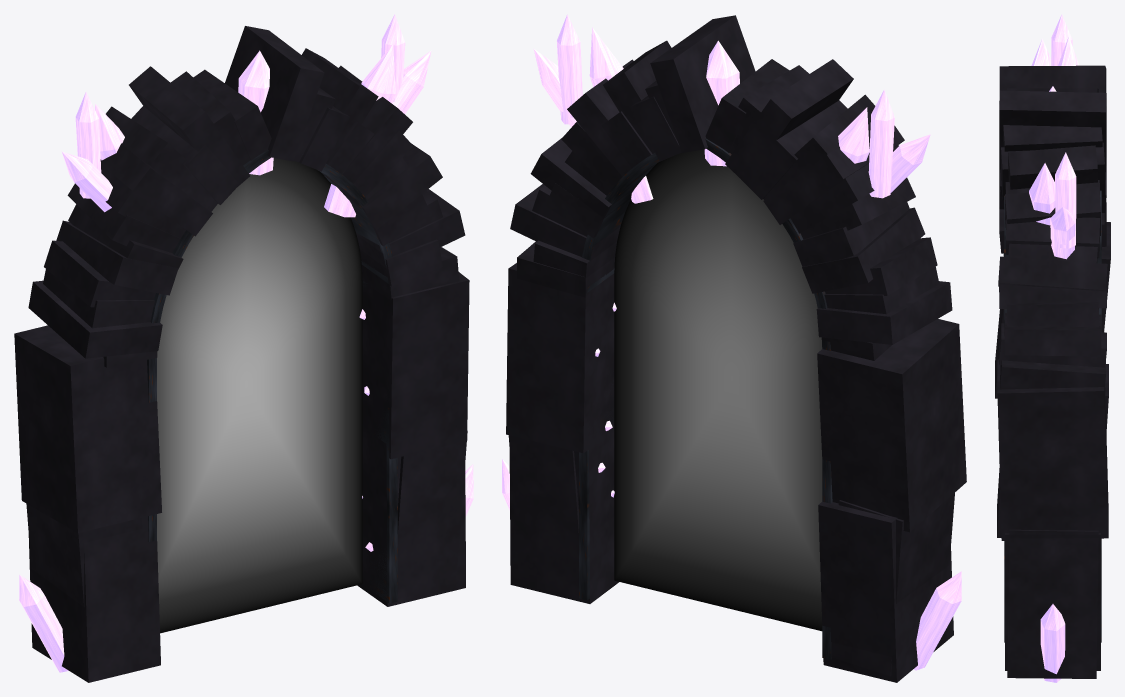
The model's file is crystal_hollow.glb.
3 views of the same model, side by side, from view 1: azimuth 30°, elevation 25°; view 2: azimuth 150°, elevation 25°; view 3: azimuth 270°, elevation 25° (orthographic). The views are drawn at different scales.
Parts seen in each view (by area): view 1: Frame, Veil; view 2: Frame, Veil; view 3: Frame.
Part boxes in pixels (<box>): Frame: <box>14,14,473,682</box>; Veil: <box>157,158,362,633</box>; Frame: <box>502,14,966,682</box>; Veil: <box>614,149,822,631</box>; Frame: <box>995,14,1110,682</box>.
Bounding box in the file's own units: 2.74 × 3.3 × 0.6656.
4 materials, 3 textured.
